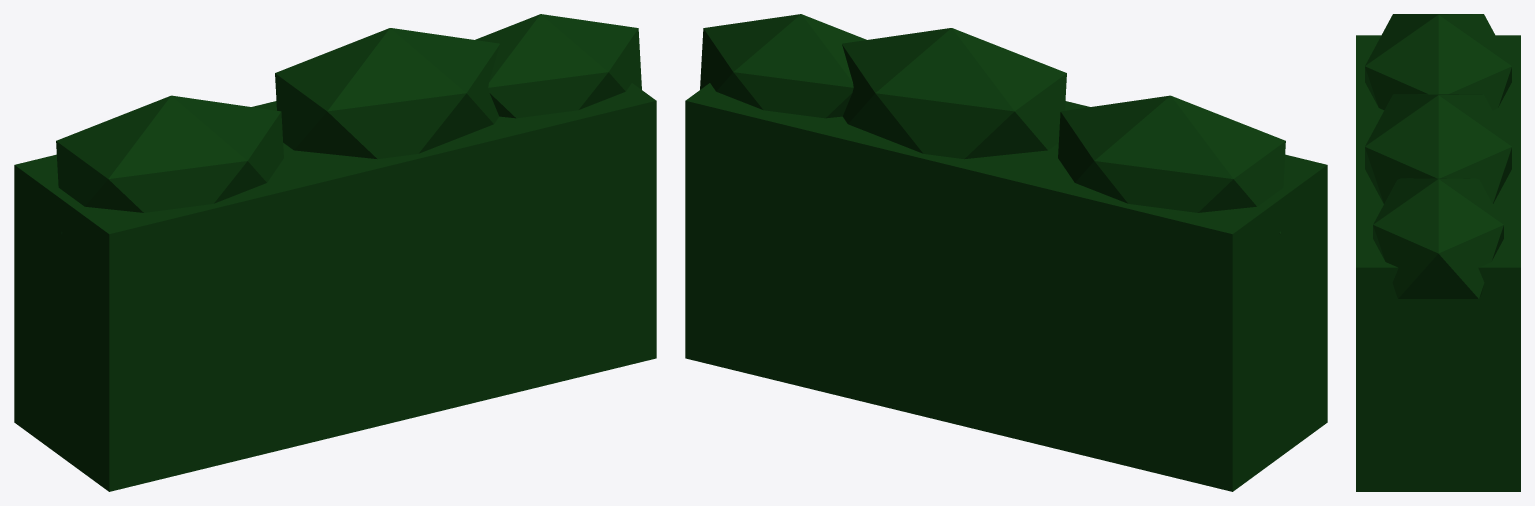
The model's file is hedge.obj.
The picture shows the model from 3 angles, left to right: view 1: azimuth 30°, elevation 25°; view 2: azimuth 150°, elevation 25°; view 3: azimuth 270°, elevation 25°; orthographic projection. The views are drawn at different scales.
Visible parts, largest first — view 1: hedge; view 2: hedge; view 3: hedge.
Part boxes in pixels (box(x1,y1,x2,y2)): hedge: box(14, 14, 656, 491); hedge: box(685, 14, 1327, 491); hedge: box(1356, 14, 1520, 491).
Size of the model in its own units: 2.11 by 1.22 by 0.6.
